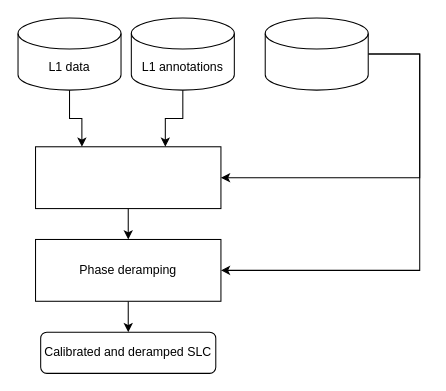
Image size: 446x391. Some labels were removed from this diagram. Here are the shapes that lost their labels. From the top down, the box of each, then its label:
(264, 17, 368, 90): Parameters configuration file
(35, 146, 221, 209): Amplitude calibration
